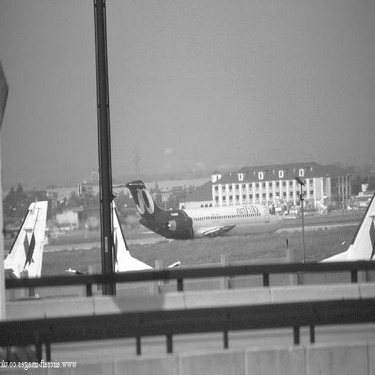airplane: (48, 179, 197, 323), (95, 150, 301, 249), (309, 171, 373, 290), (6, 180, 61, 297)
